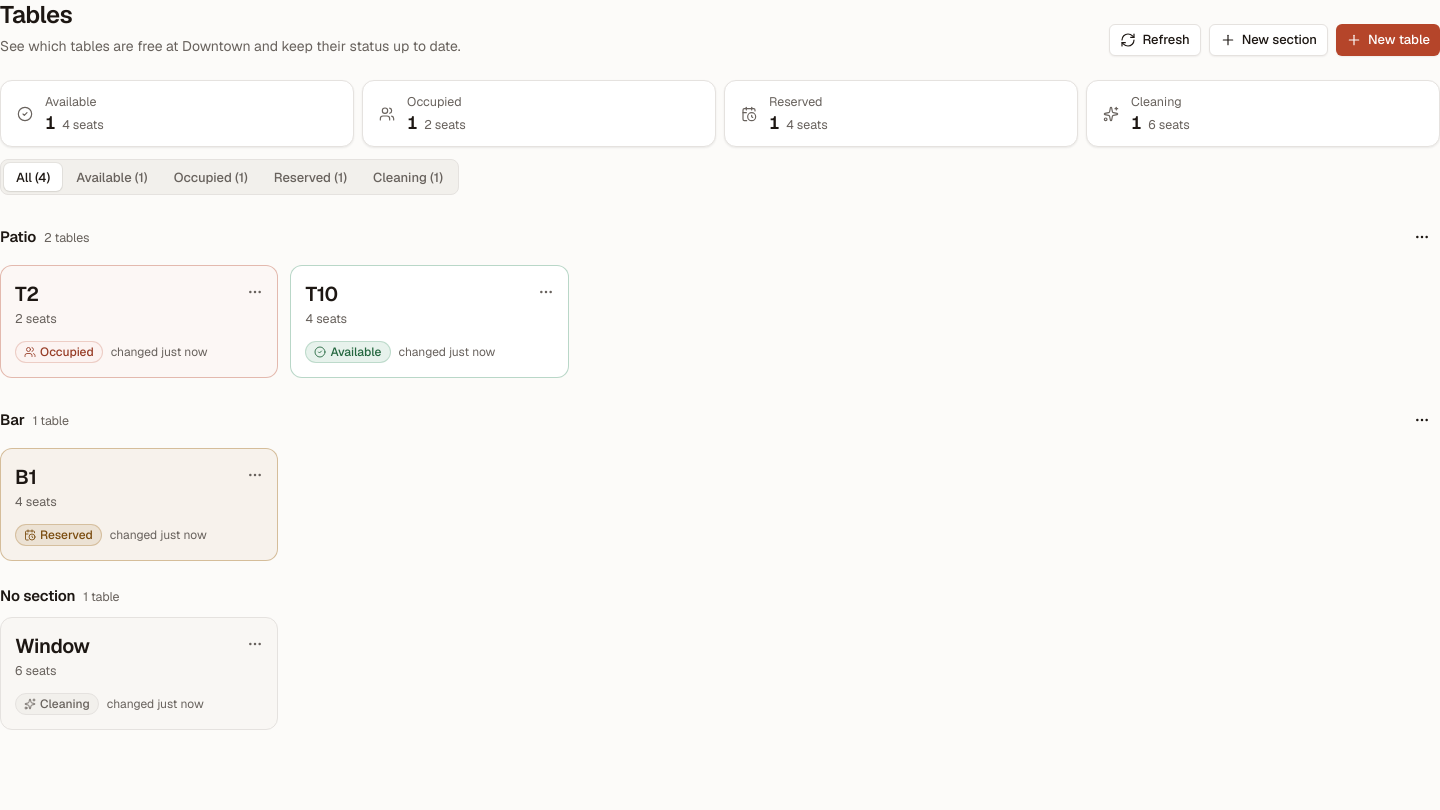
Test: Tables screen › translates a refusal from the database inside the form
Step 1. Click the button "New table" → {"x": 1388, "y": 40}, box [1336, 24, 1439, 56]
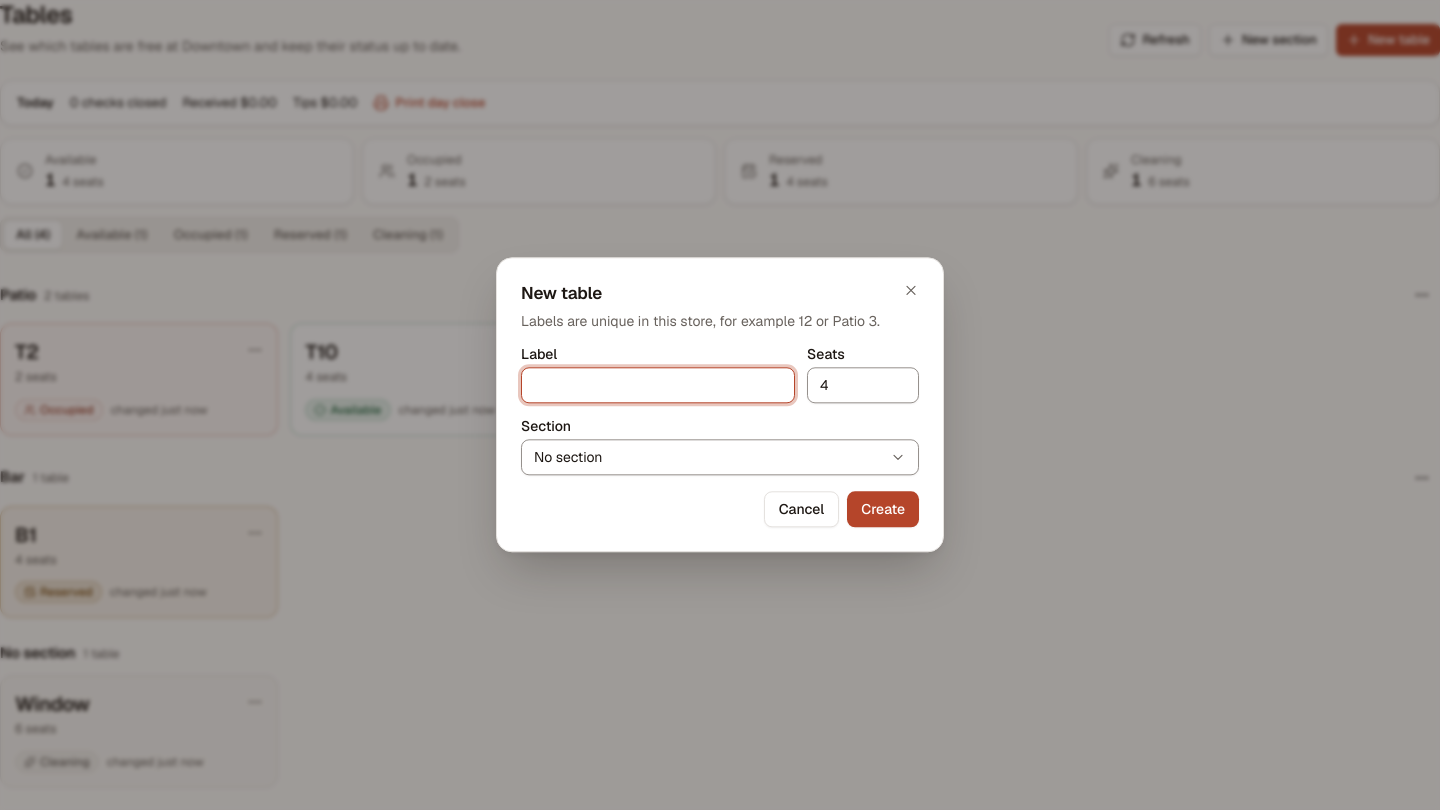
Step 2. Type "T2" into the field labelled "Label" → {"x": 658, "y": 386}, box [521, 368, 795, 404]
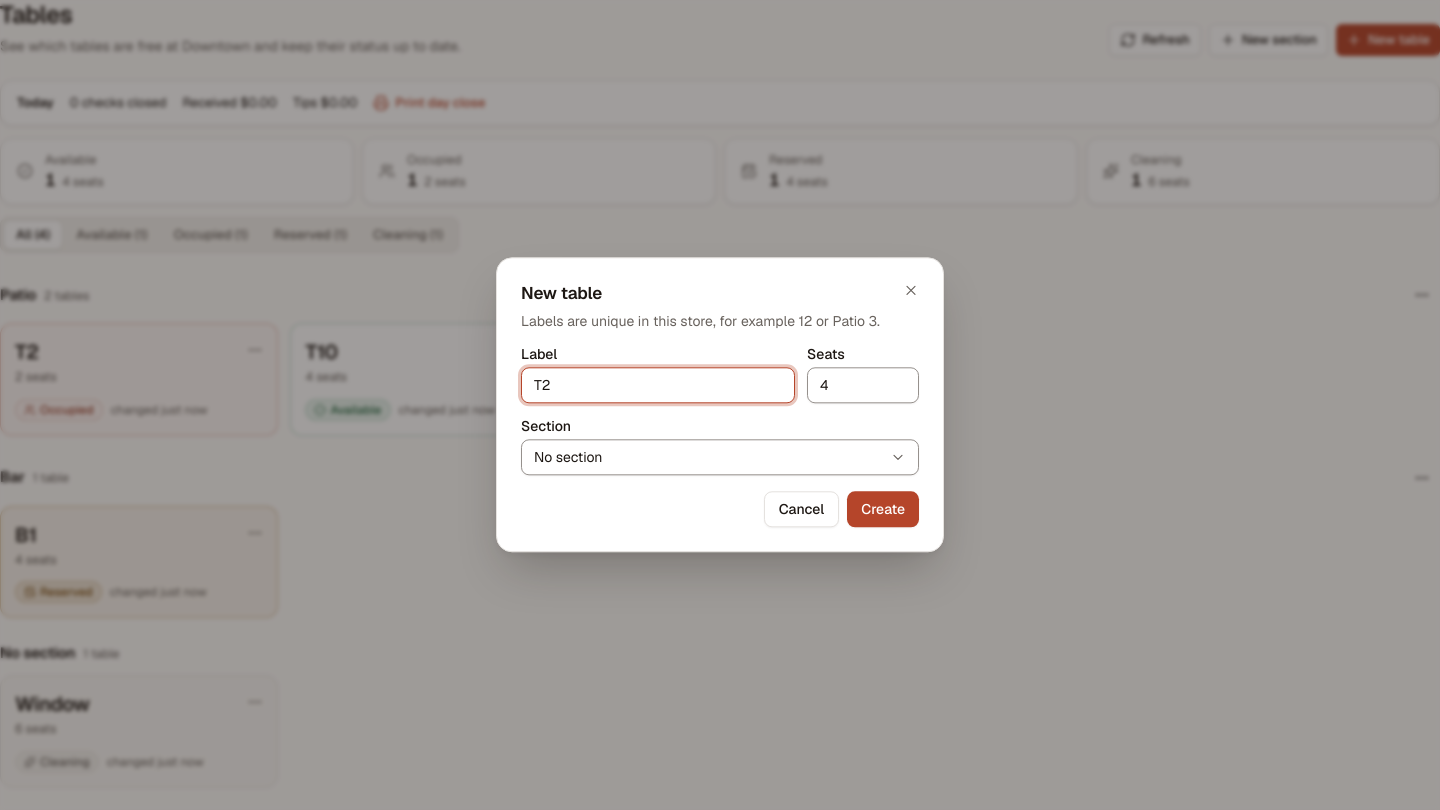
Step 3. Click the button "Create" → {"x": 883, "y": 510}, box [847, 492, 919, 528]
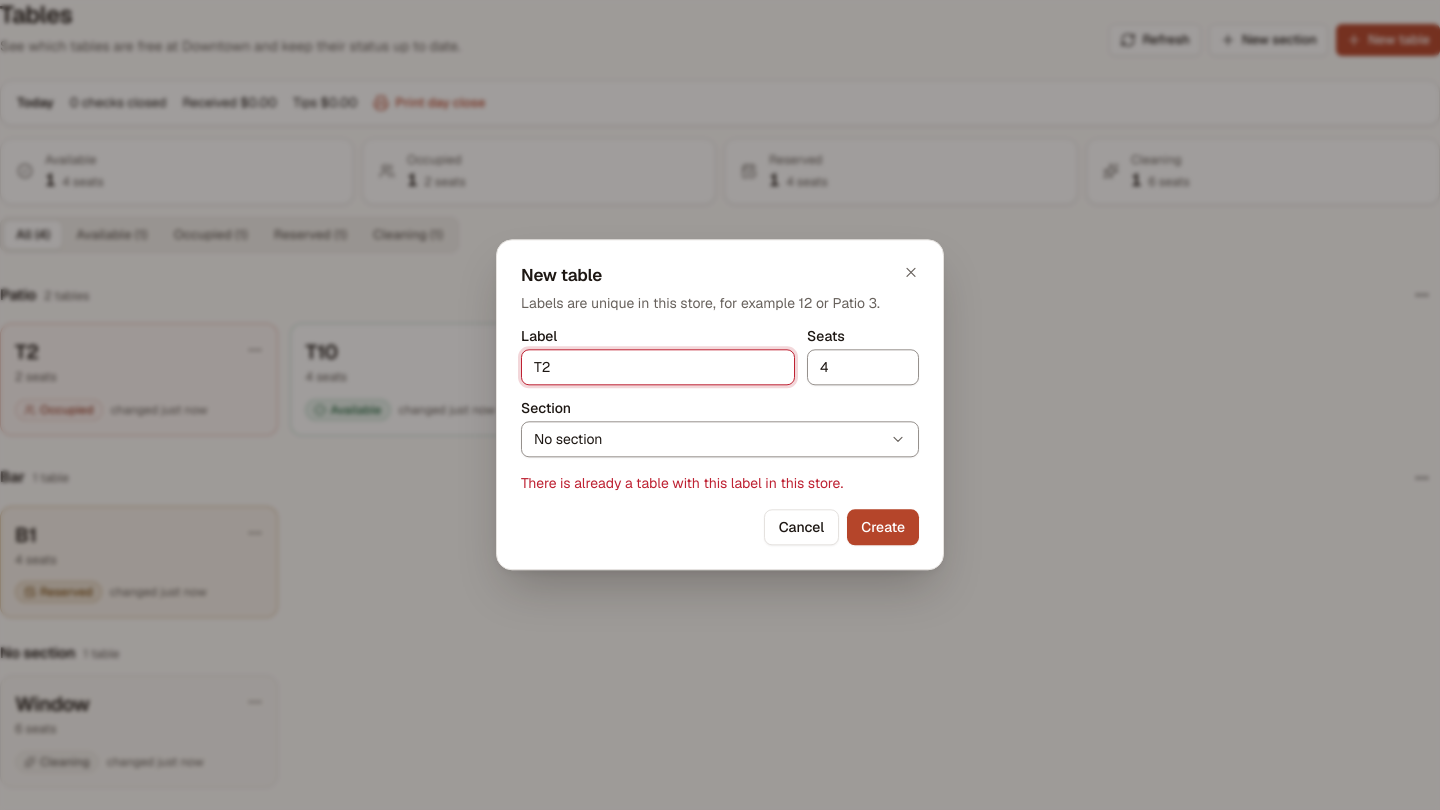
Result: the text "There is already a table with this label in this store." is shown at [521, 475, 843, 493]
